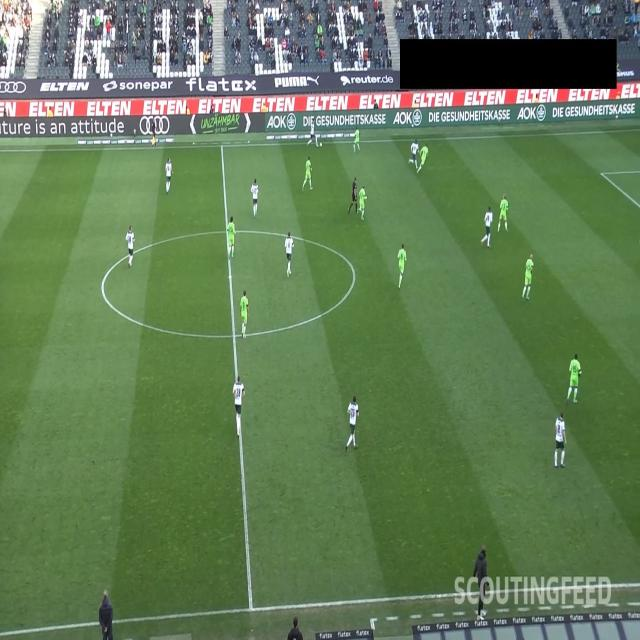ball: (319, 142, 323, 148)
